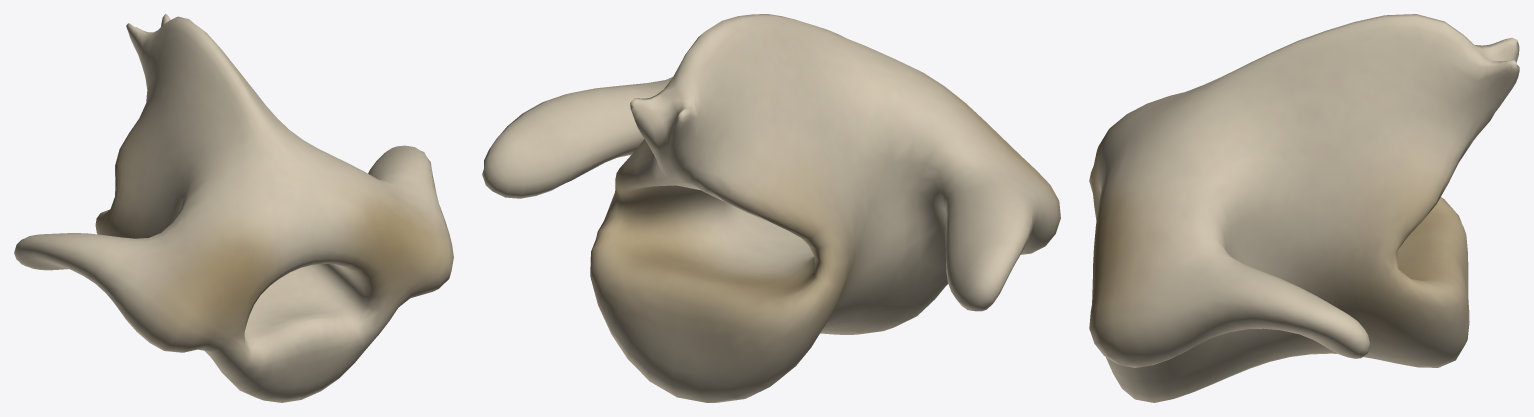
Rendered from vertebrae thoracicae 10.fbx.
3 views of the same model, side by side, from view 1: azimuth 30°, elevation 25°; view 2: azimuth 150°, elevation 25°; view 3: azimuth 270°, elevation 25° (orthographic). The views are drawn at different scales.
Visible parts, largest first — view 1: vertebrae thoracicae 10; view 2: vertebrae thoracicae 10; view 3: vertebrae thoracicae 10.
Part boxes in pixels (x1,y1,x2,y2): vertebrae thoracicae 10: (14, 14, 453, 402); vertebrae thoracicae 10: (482, 14, 1060, 402); vertebrae thoracicae 10: (1089, 14, 1519, 402).
Bounding box in the file's own units: 7.59 × 5.58 × 5.75.
